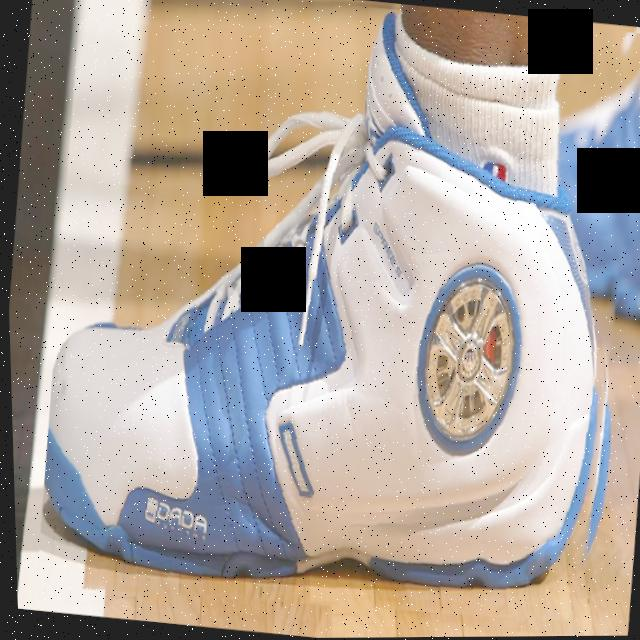shoe: (19, 0, 640, 640)
